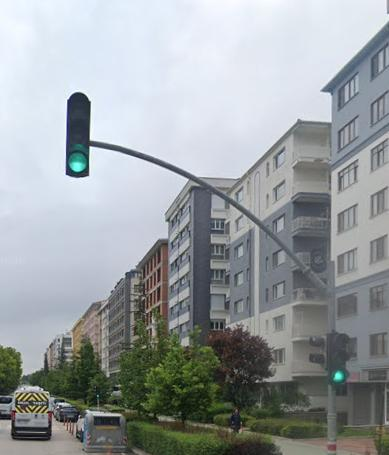greenlight: (64, 88, 93, 177), (329, 330, 350, 389)
